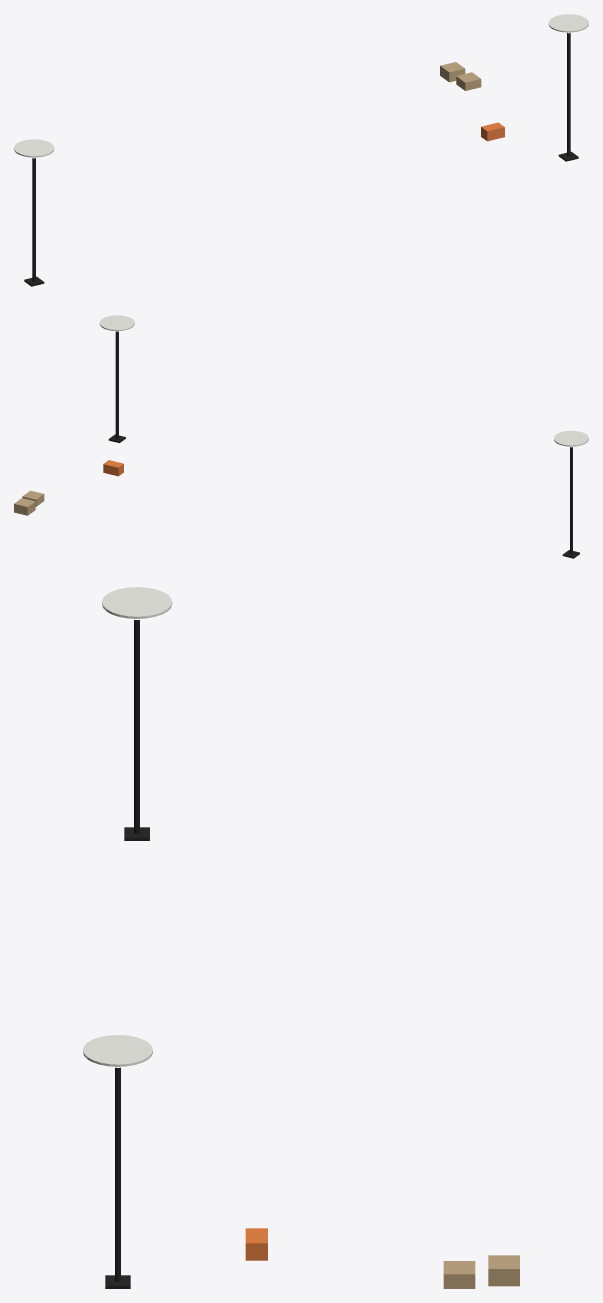
File: Burger_Point_Site.glb
The picture shows the model from 3 angles, top to bottom: view 1: azimuth 30°, elevation 25°; view 2: azimuth 150°, elevation 25°; view 3: azimuth 270°, elevation 25°; orthographic projection. The views are drawn at different scales.
Visible parts, largest first — view 1: BSP_Props; view 2: BSP_Props; view 3: BSP_Props.
Part boxes in pixels (x1,y1,x2,y2): BSP_Props: (14, 14, 588, 286); BSP_Props: (14, 315, 588, 558); BSP_Props: (83, 587, 519, 1288).
Size of what is drawn, in the model's own units: 35.4 by 8.08 by 13.7.
